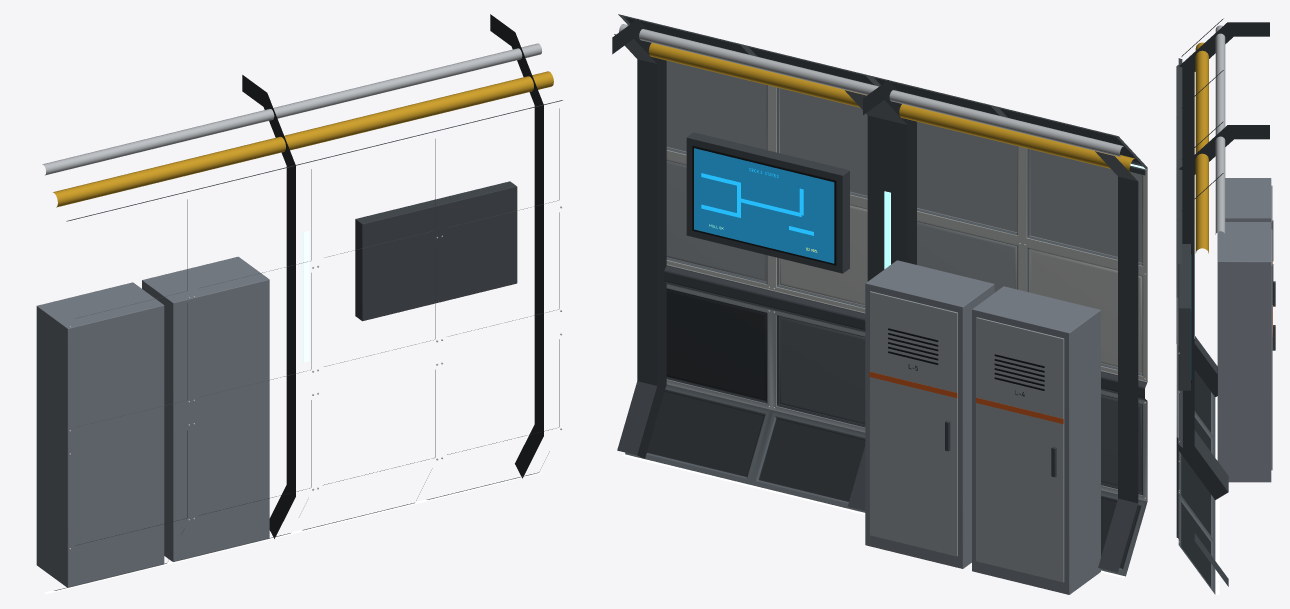
Rendered from room_wall_a.glb.
The picture shows the model from 3 angles, left to right: view 1: azimuth 30°, elevation 25°; view 2: azimuth 150°, elevation 25°; view 3: azimuth 270°, elevation 25°; orthographic projection. The views are drawn at different scales.
Visible parts, largest first — view 1: room_wall_a_detail, room_wall_a_pipes, room_wall_a_body, room_wall_a_decal; view 2: room_wall_a_body, room_wall_a_detail, room_wall_a_decal, room_wall_a_pipes; view 3: room_wall_a_detail, room_wall_a_body, room_wall_a_pipes, room_wall_a_decal.
Part boxes in pixels (x1=…): room_wall_a_detail: x1=36, y1=100, x2=562, y2=587; room_wall_a_pipes: x1=42, y1=43, x2=553, y2=207; room_wall_a_body: x1=54, y1=14, x2=559, y2=590; room_wall_a_decal: x1=44, y1=231, x2=541, y2=594; room_wall_a_body: x1=612, y1=14, x2=1147, y2=576; room_wall_a_detail: x1=686, y1=132, x2=1147, y2=594; room_wall_a_decal: x1=622, y1=148, x2=1145, y2=577; room_wall_a_pipes: x1=619, y1=24, x2=1134, y2=173; room_wall_a_detail: x1=1178, y1=58, x2=1275, y2=542; room_wall_a_body: x1=1176, y1=18, x2=1269, y2=594; room_wall_a_pipes: x1=1195, y1=25, x2=1225, y2=253; room_wall_a_decal: x1=1191, y1=226, x2=1272, y2=594.
Size of the model in its own units: 4 by 3.4 by 0.815.
